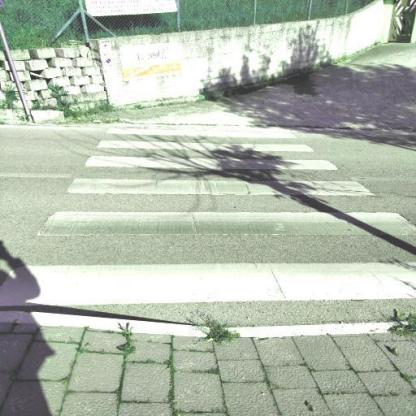crosswalk: (2, 202, 416, 312), (82, 138, 346, 176)
